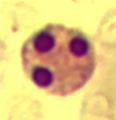neutrophil: (22, 20, 95, 100)
